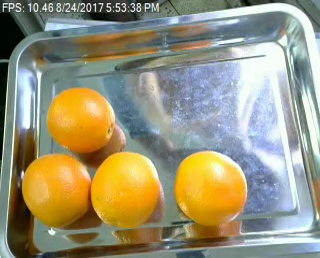Orange: (174, 150, 248, 226), (89, 151, 161, 228), (21, 152, 91, 228), (47, 87, 114, 152)
